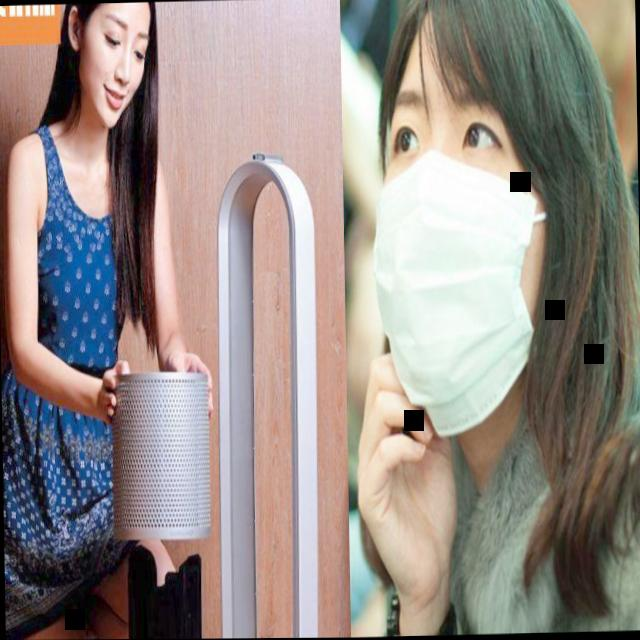Mask: (359, 0, 609, 469)
NO-Mask: (65, 2, 166, 141)
